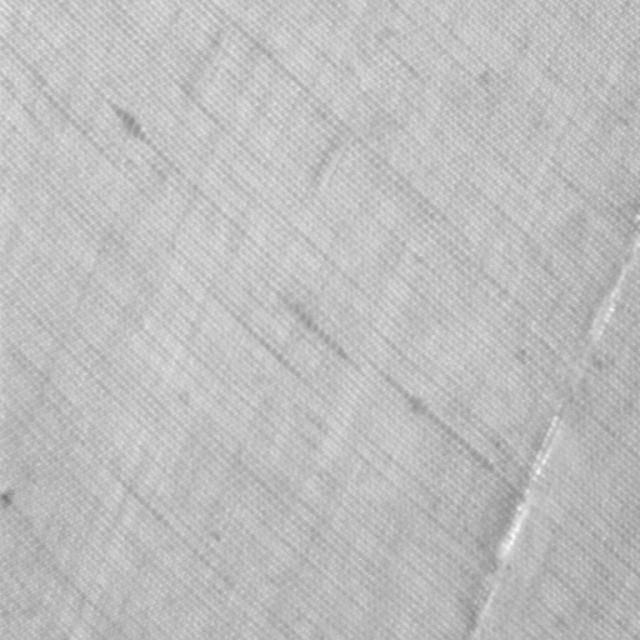thread error: (456, 230, 639, 635)
